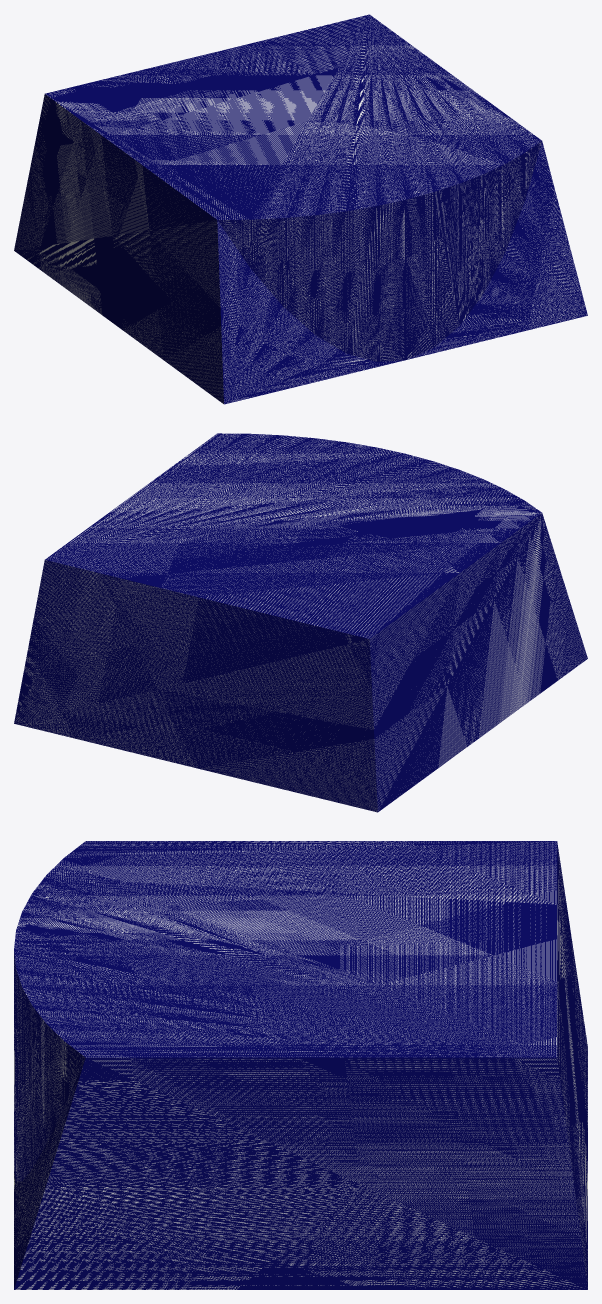
File: original-6.obj
3 renders of one model, top to bottom at view 1: azimuth 30°, elevation 25°; view 2: azimuth 150°, elevation 25°; view 3: azimuth 270°, elevation 25°, orthographic. The views are drawn at different scales.
Visible parts, largest first — view 1: Gray_Single_Keycap3/Gray_Single_Keycap/mesh8/mesh8-geometry#mesh; view 2: Gray_Single_Keycap3/Gray_Single_Keycap/mesh8/mesh8-geometry#mesh; view 3: Gray_Single_Keycap3/Gray_Single_Keycap/mesh8/mesh8-geometry#mesh.
Boxes of the visible parts, x1,y1,x2,y2 form: Gray_Single_Keycap3/Gray_Single_Keycap/mesh8/mesh8-geometry#mesh: (14, 14, 587, 404); Gray_Single_Keycap3/Gray_Single_Keycap/mesh8/mesh8-geometry#mesh: (14, 433, 587, 812); Gray_Single_Keycap3/Gray_Single_Keycap/mesh8/mesh8-geometry#mesh: (14, 841, 587, 1289).
Size of the model in its own units: 0.0977 by 0.0412 by 0.0977.
